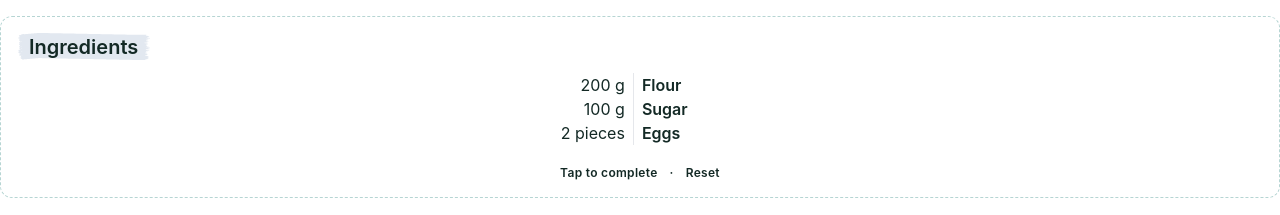
Ingredients › clears all used ingredients when "Reset" is clicked
Click the button "Tap to complete". click: (609, 173)
box: [560,165,658,181]
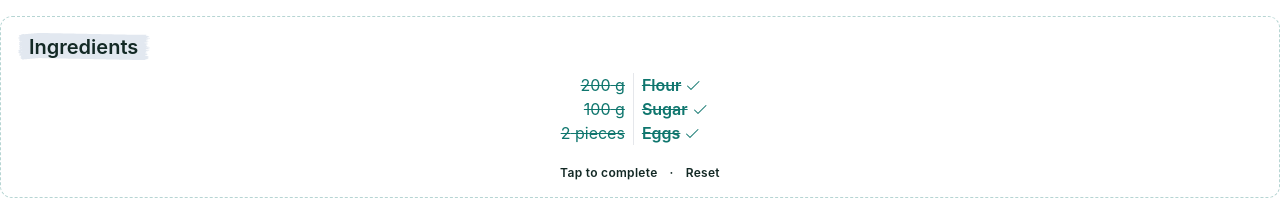
Now the number of icons with test id "check-icon" is 3, box [685,77,701,93]; [692,101,708,117]; [684,125,700,141]
Click the button "Reset". click: (703, 173)
box: [686,165,720,181]
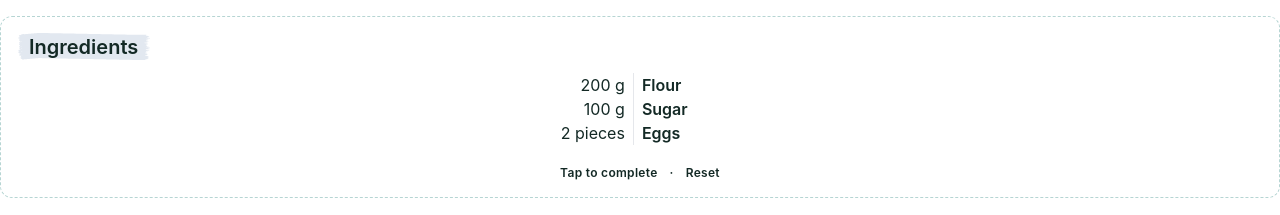
Now the icon with test id "check-icon" is gone
